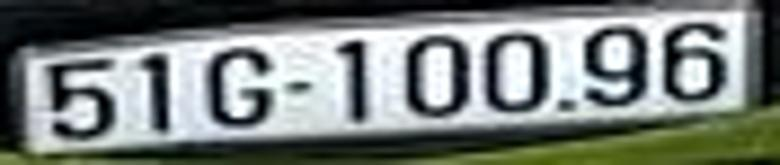-: (282, 80, 312, 93)
.: (558, 97, 576, 112)
0: (484, 32, 549, 113), (405, 35, 469, 117)
1: (336, 39, 368, 124), (141, 53, 174, 133)
5: (46, 62, 116, 142)
6: (664, 20, 725, 102)
9: (584, 24, 646, 106)
G: (206, 47, 274, 130)
